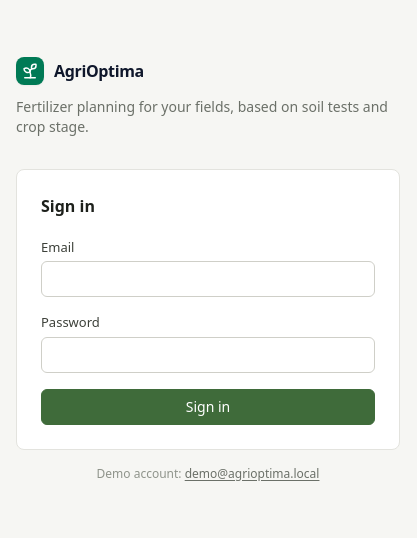
Scenario: login › shows a clear message for wrong credentials
This screenshot has width=417, height=538.
Type "demo@agrioptima.local" into the field labelled "Email" at (208, 279), box [41,261,375,297]
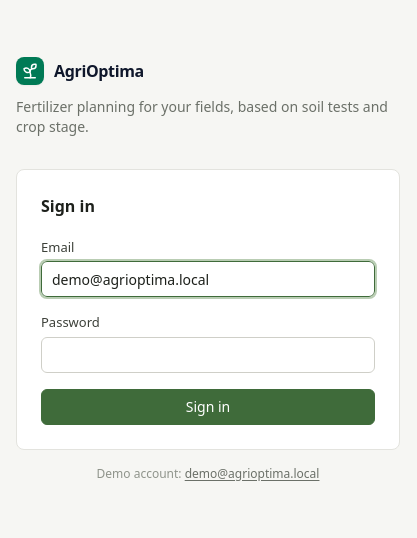
Type "wrong" into the password field labelled "Password" at (208, 354), box [41,336,375,372]
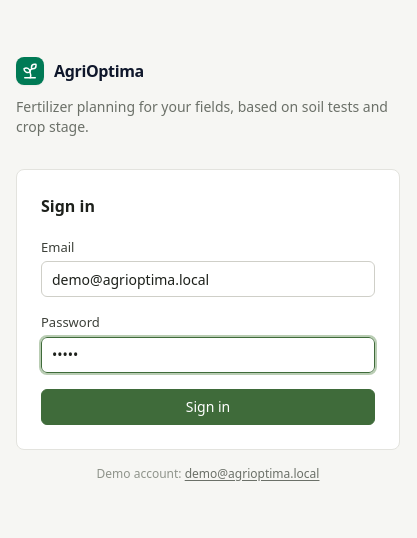
Click the button "Sign in" at (208, 406), box [41,388,375,424]
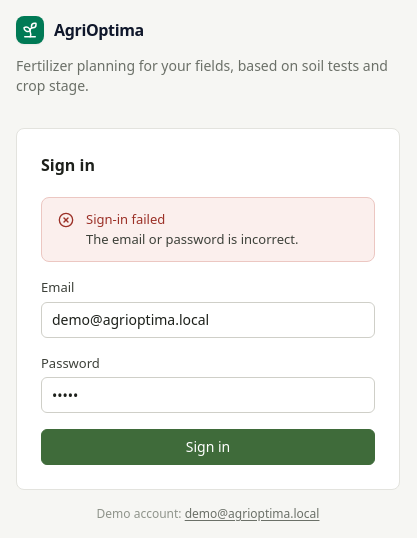
Check: the text "The email or password is incorrect." is shown, box [86,230,298,248]
